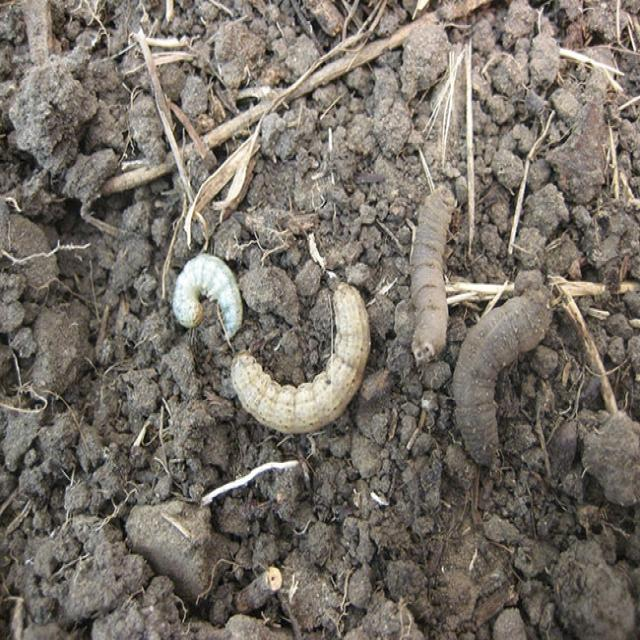Cutworm: (229, 280, 371, 445), (460, 285, 558, 480), (408, 175, 456, 363), (171, 250, 244, 340)
